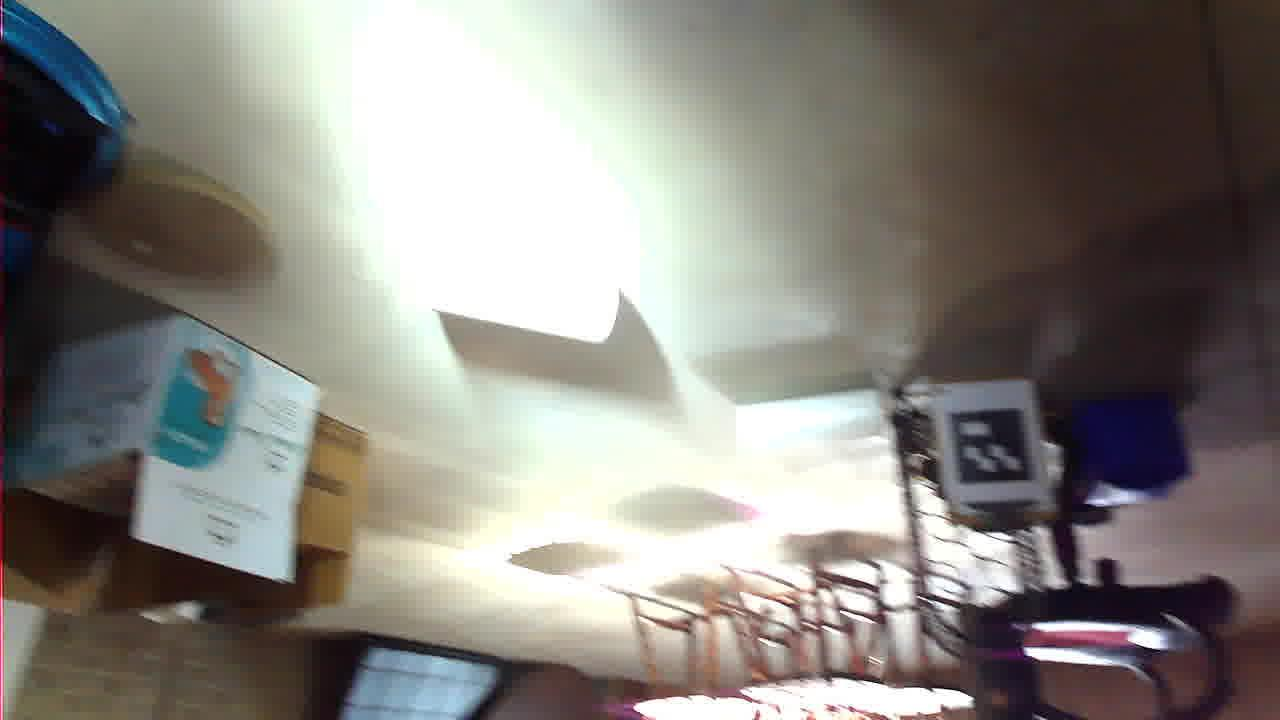coral: (400, 271, 544, 332)
